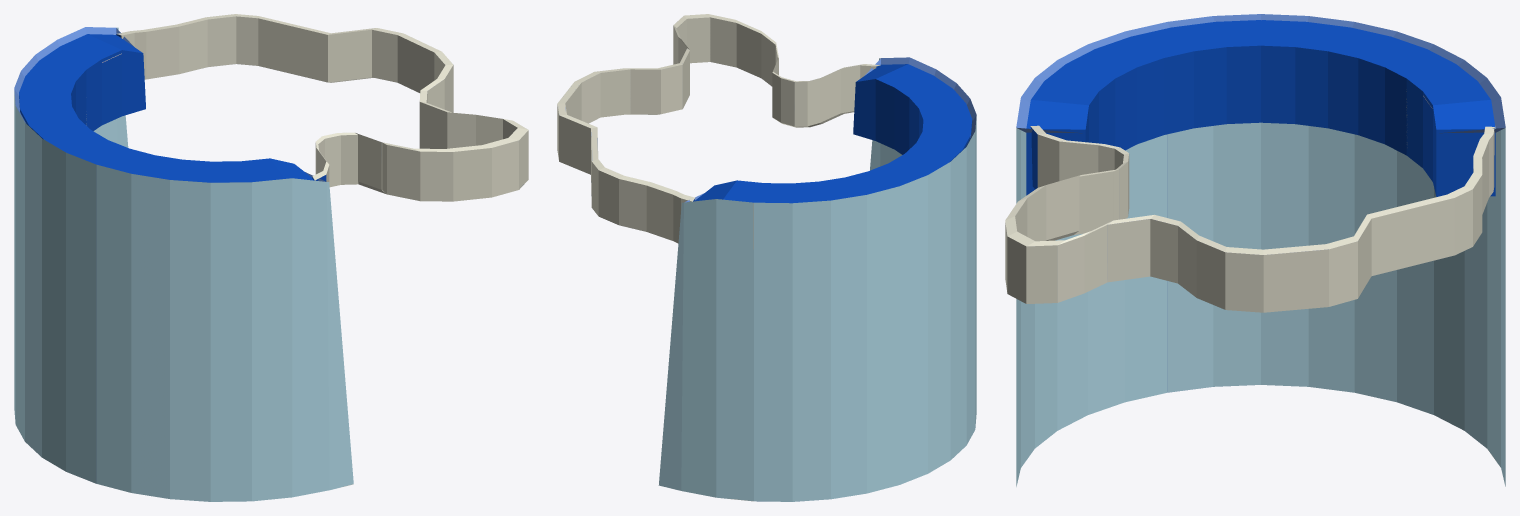
The model's file is FaceshieldGB.glb.
The picture shows the model from 3 angles, left to right: view 1: azimuth 30°, elevation 25°; view 2: azimuth 150°, elevation 25°; view 3: azimuth 270°, elevation 25°; orthographic projection. The views are drawn at different scales.
Parts seen in each view (by area): view 1: Circle; view 2: Circle; view 3: Circle.
Boxes of the visible parts, x1,y1,x2,y2 form: Circle: (14, 14, 528, 501); Circle: (557, 14, 976, 501); Circle: (1005, 14, 1505, 486).
Bounding box in the file's own units: 2.29 × 1.74 × 2.13.
Materials: 1 (1 with a texture image).
